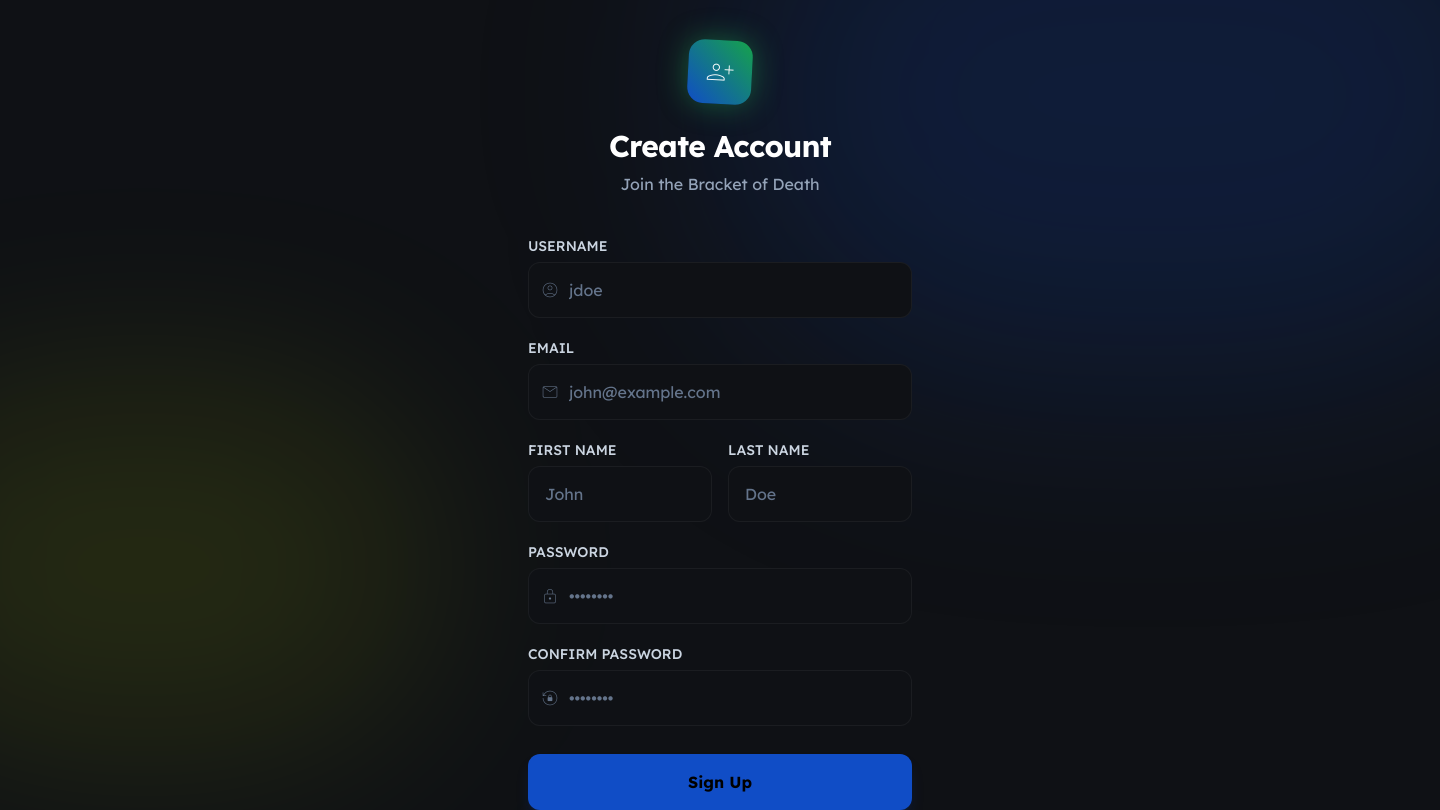
Test: Register Component › validates password match
This screenshot has width=1440, height=810.
Type "testuser" into the field with placeholder "jdoe".
click(720, 290); type("testuser")  # box [528, 262, 912, 318]
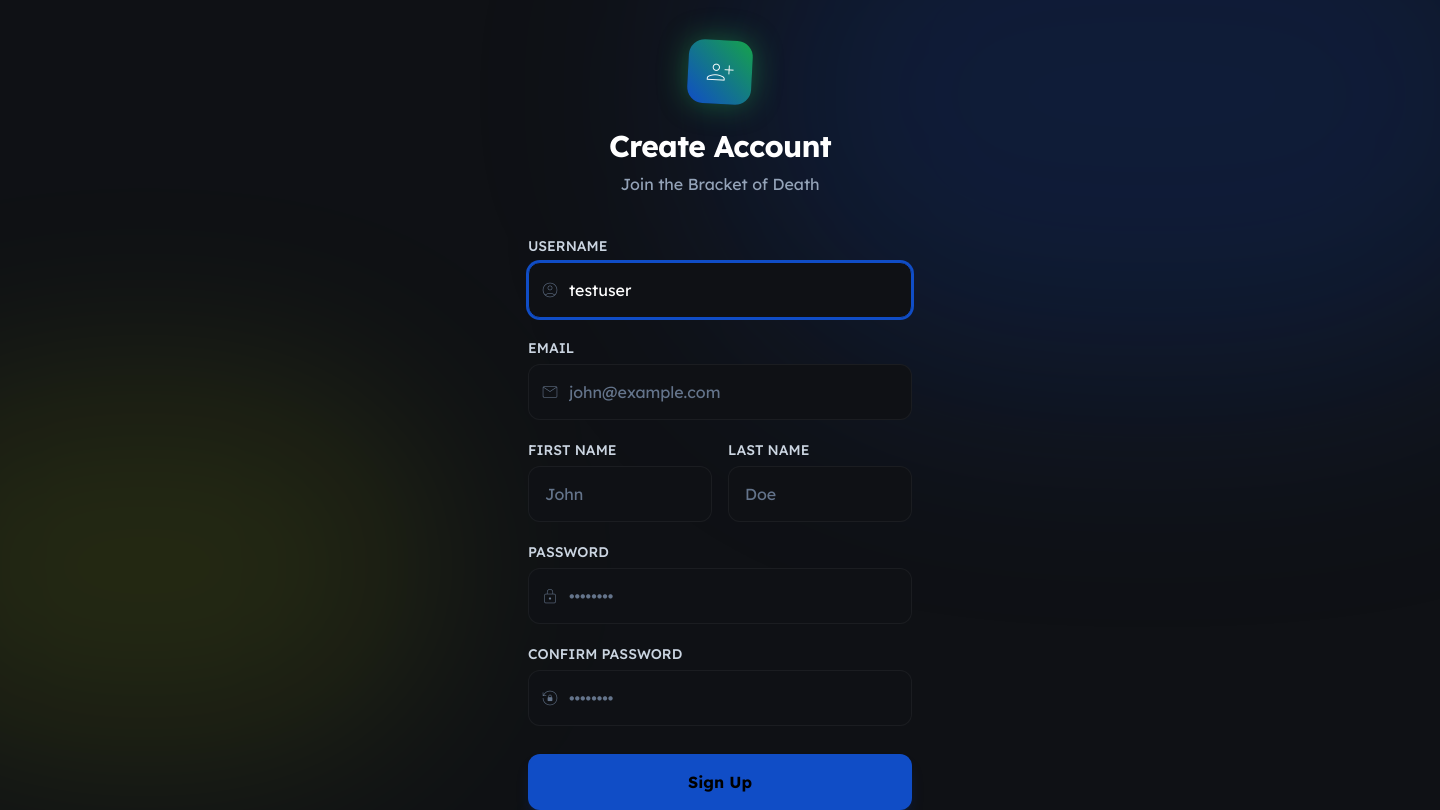
Type "test@example.com" into the field with placeholder "john@example.com".
click(720, 392); type("test@example.com")  # box [528, 364, 912, 420]
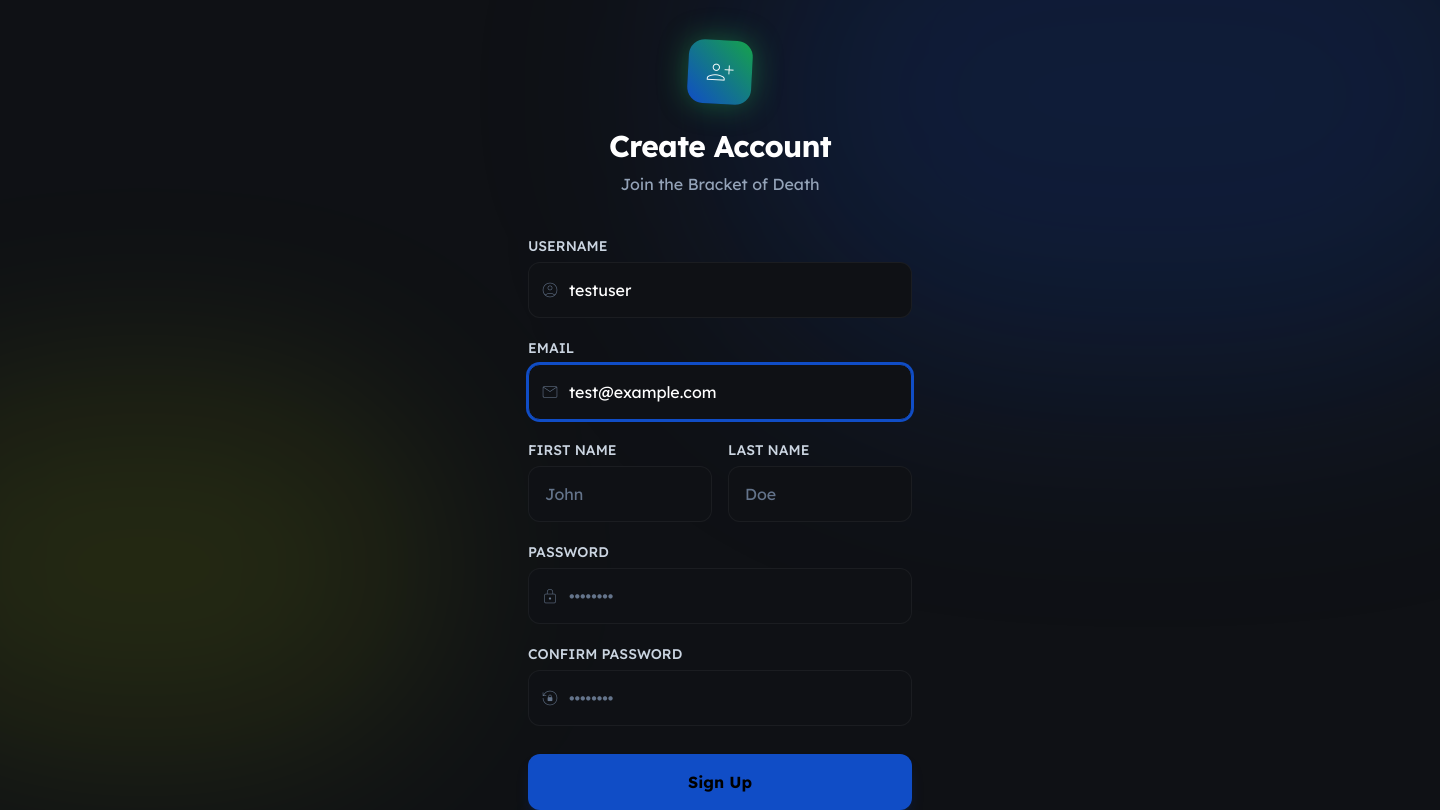
Type "password123" into the 1st password field with placeholder "••••••••".
click(720, 596); type("password123")  # box [528, 568, 912, 624]
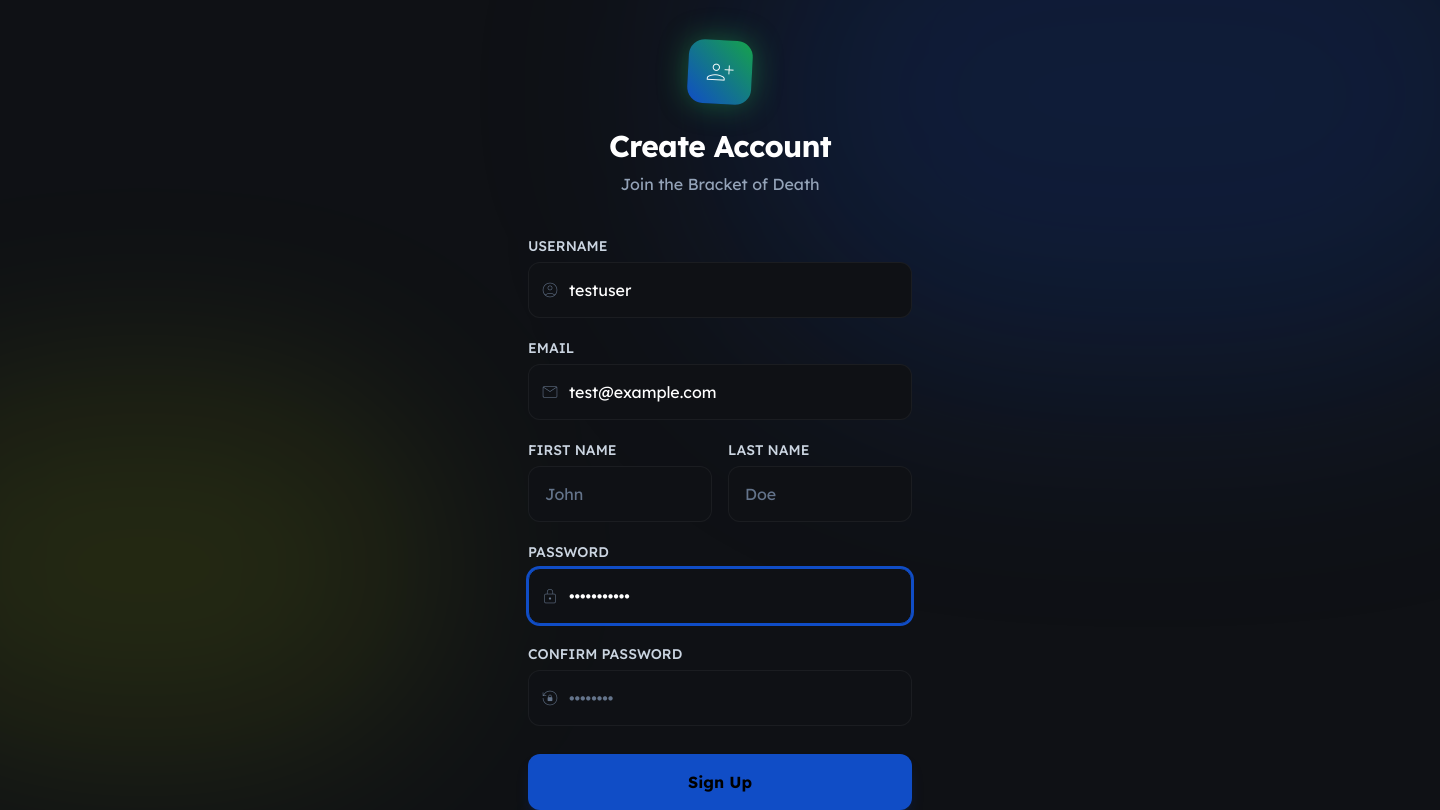
Type "mismatch" into the password field with placeholder "••••••••".
click(720, 698); type("mismatch")  # box [528, 670, 912, 726]
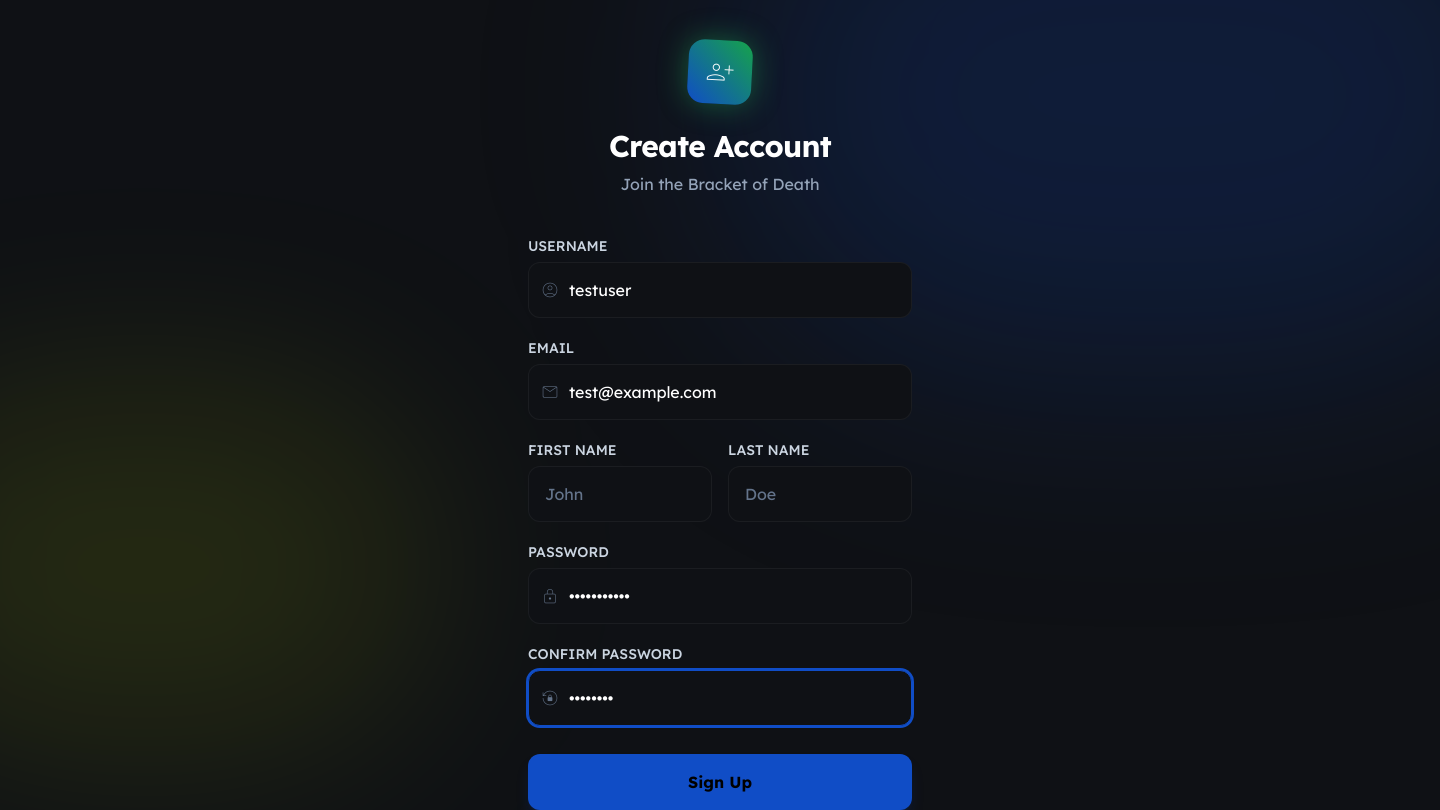
Click the button "Sign Up".
click(720, 782)  # box [528, 754, 912, 809]
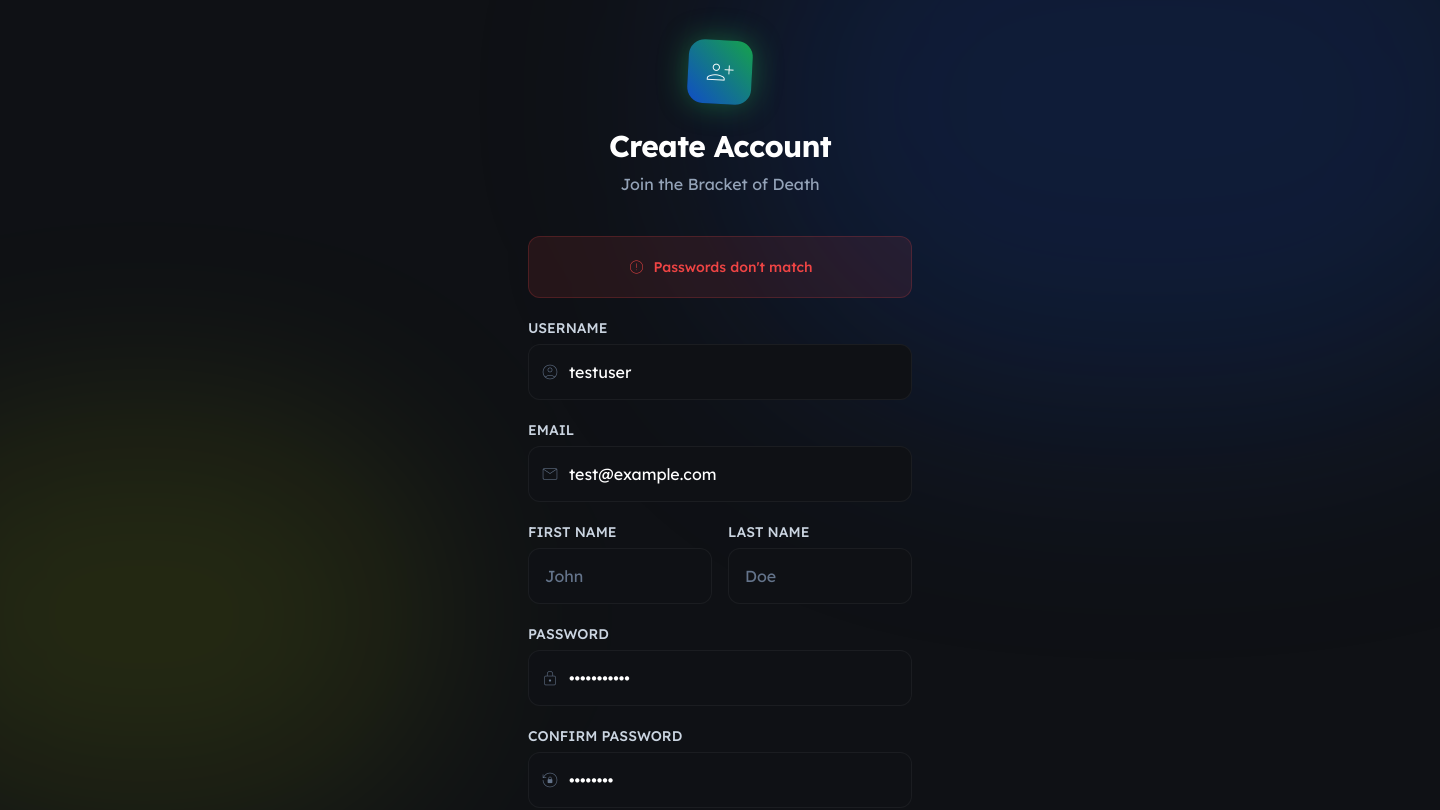
expect the text "Passwords don't match" is shown: met, box [528, 236, 912, 298]
